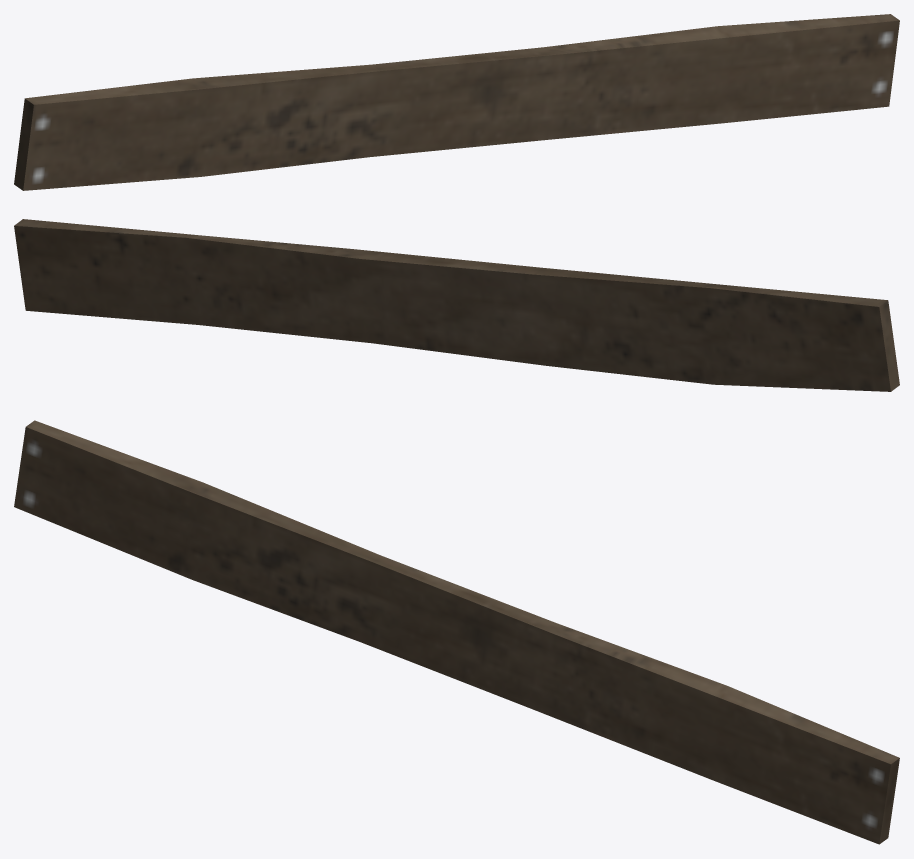
Rendered from FenceNailPlank_Top_01.fbx.
The picture shows the model from 3 angles, top to bottom: view 1: azimuth 30°, elevation 25°; view 2: azimuth 150°, elevation 25°; view 3: azimuth 330°, elevation 25°; orthographic projection.
Visible parts, largest first — view 1: nail_plank; view 2: nail_plank; view 3: nail_plank.
Part boxes in pixels (x1=…): nail_plank: x1=14, y1=14, x2=899, y2=190; nail_plank: x1=14, y1=219, x2=899, y2=391; nail_plank: x1=14, y1=420, x2=899, y2=844.
Bounding box in the file's own units: 6.67 × 1.54 × 0.1508.
